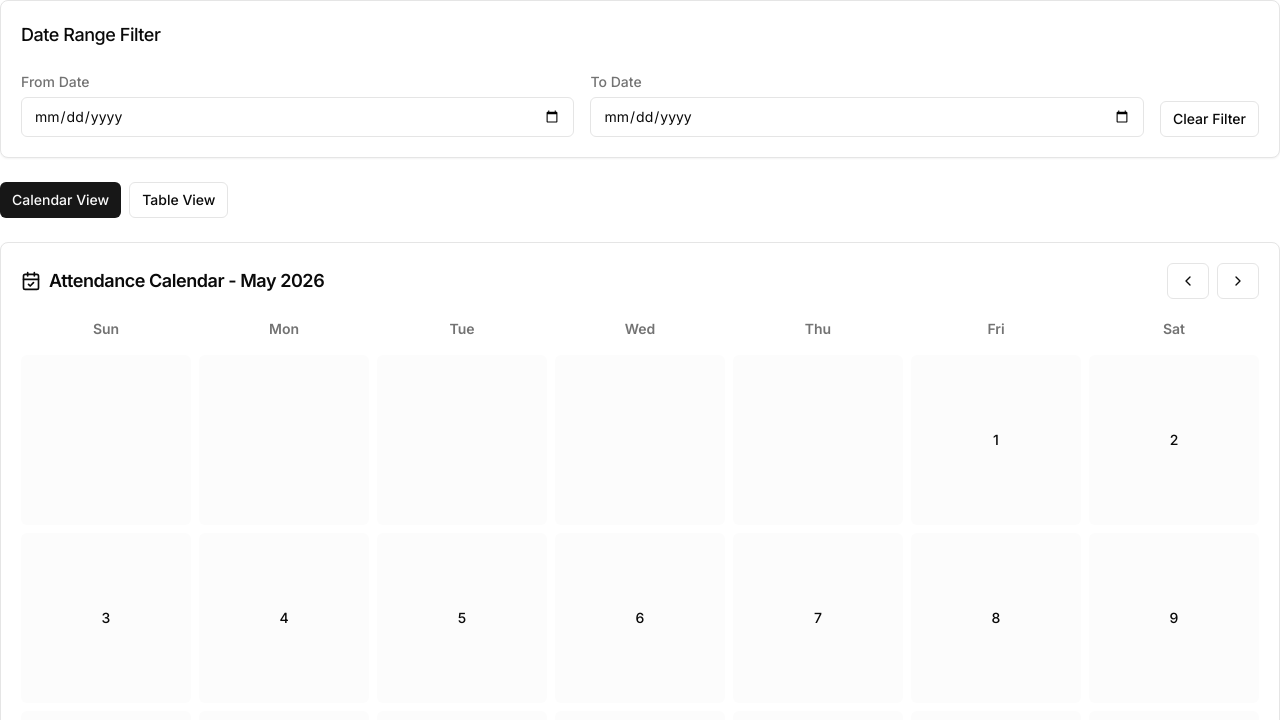
it: AttendanceHistory Component › Table View › should render table view when button is clicked
What coordinates should you click on to do the following:
click the button "Table View"
I would click on:
 (179, 200)
Its box is [129, 182, 228, 218].
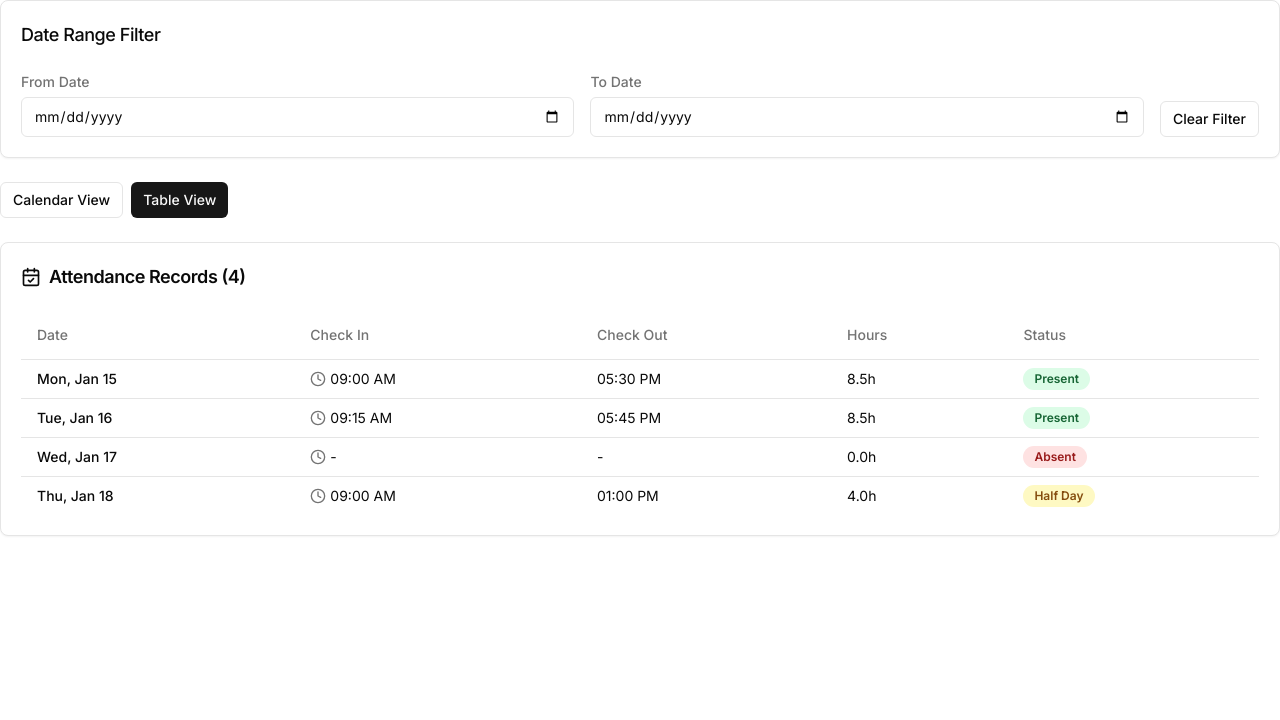
Result: the column heading "Date" is shown at [21, 311, 294, 359]
